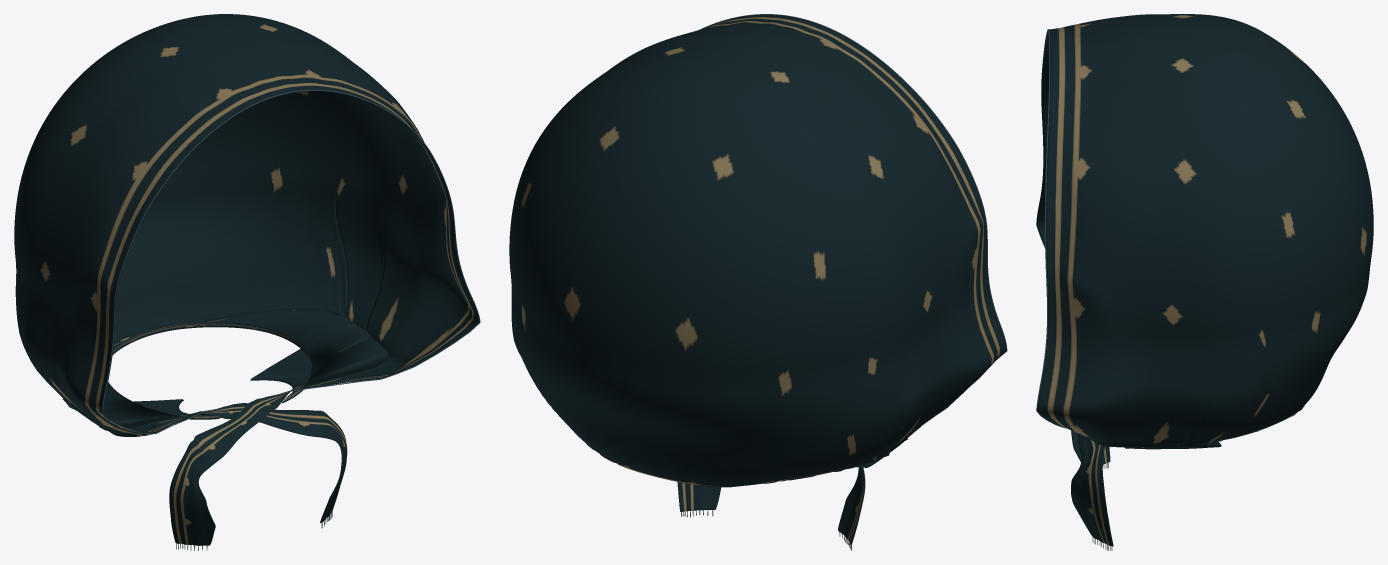
File: Feminine-Feminine-curls-tshirt-pashmina250-headgear-f651840d.glb
The picture shows the model from 3 angles, left to right: view 1: azimuth 30°, elevation 25°; view 2: azimuth 150°, elevation 25°; view 3: azimuth 270°, elevation 25°; orthographic projection. The views are drawn at different scales.
Visible parts, largest first — view 1: 226 headgear / Headwear / continuous woven pashmina239, 226 headgear / Headwear / face edge239; view 2: 226 headgear / Headwear / continuous woven pashmina239, 226 headgear / Headwear / face edge239; view 3: 226 headgear / Headwear / continuous woven pashmina239, 226 headgear / Headwear / face edge239.
Part boxes in pixels (box(x1,y1,x2,y2)): 226 headgear / Headwear / continuous woven pashmina239: box(14, 14, 479, 545); 226 headgear / Headwear / face edge239: box(102, 89, 480, 433); 226 headgear / Headwear / continuous woven pashmina239: box(509, 14, 1006, 544); 226 headgear / Headwear / face edge239: box(700, 14, 1007, 360); 226 headgear / Headwear / continuous woven pashmina239: box(1036, 14, 1373, 546); 226 headgear / Headwear / face edge239: box(1036, 29, 1065, 428).
Size of the model in its own units: 1.22 by 1.43 by 0.9102.
Materials: 3 (1 with a texture image).
